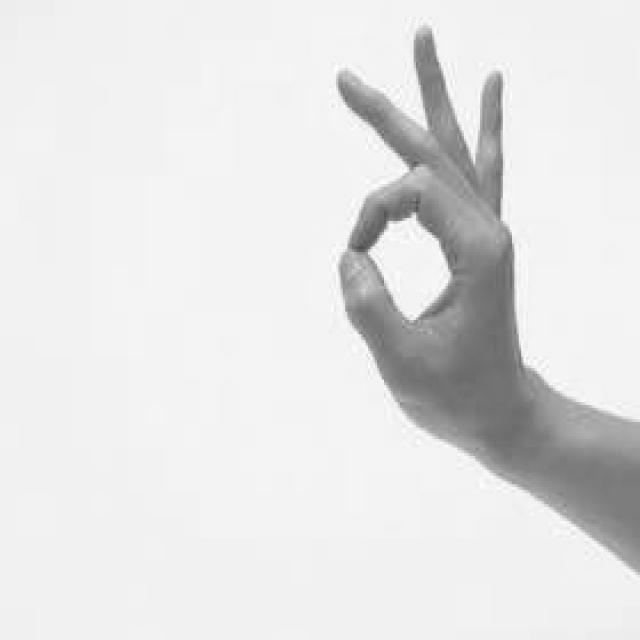perfect: (323, 13, 549, 468)
